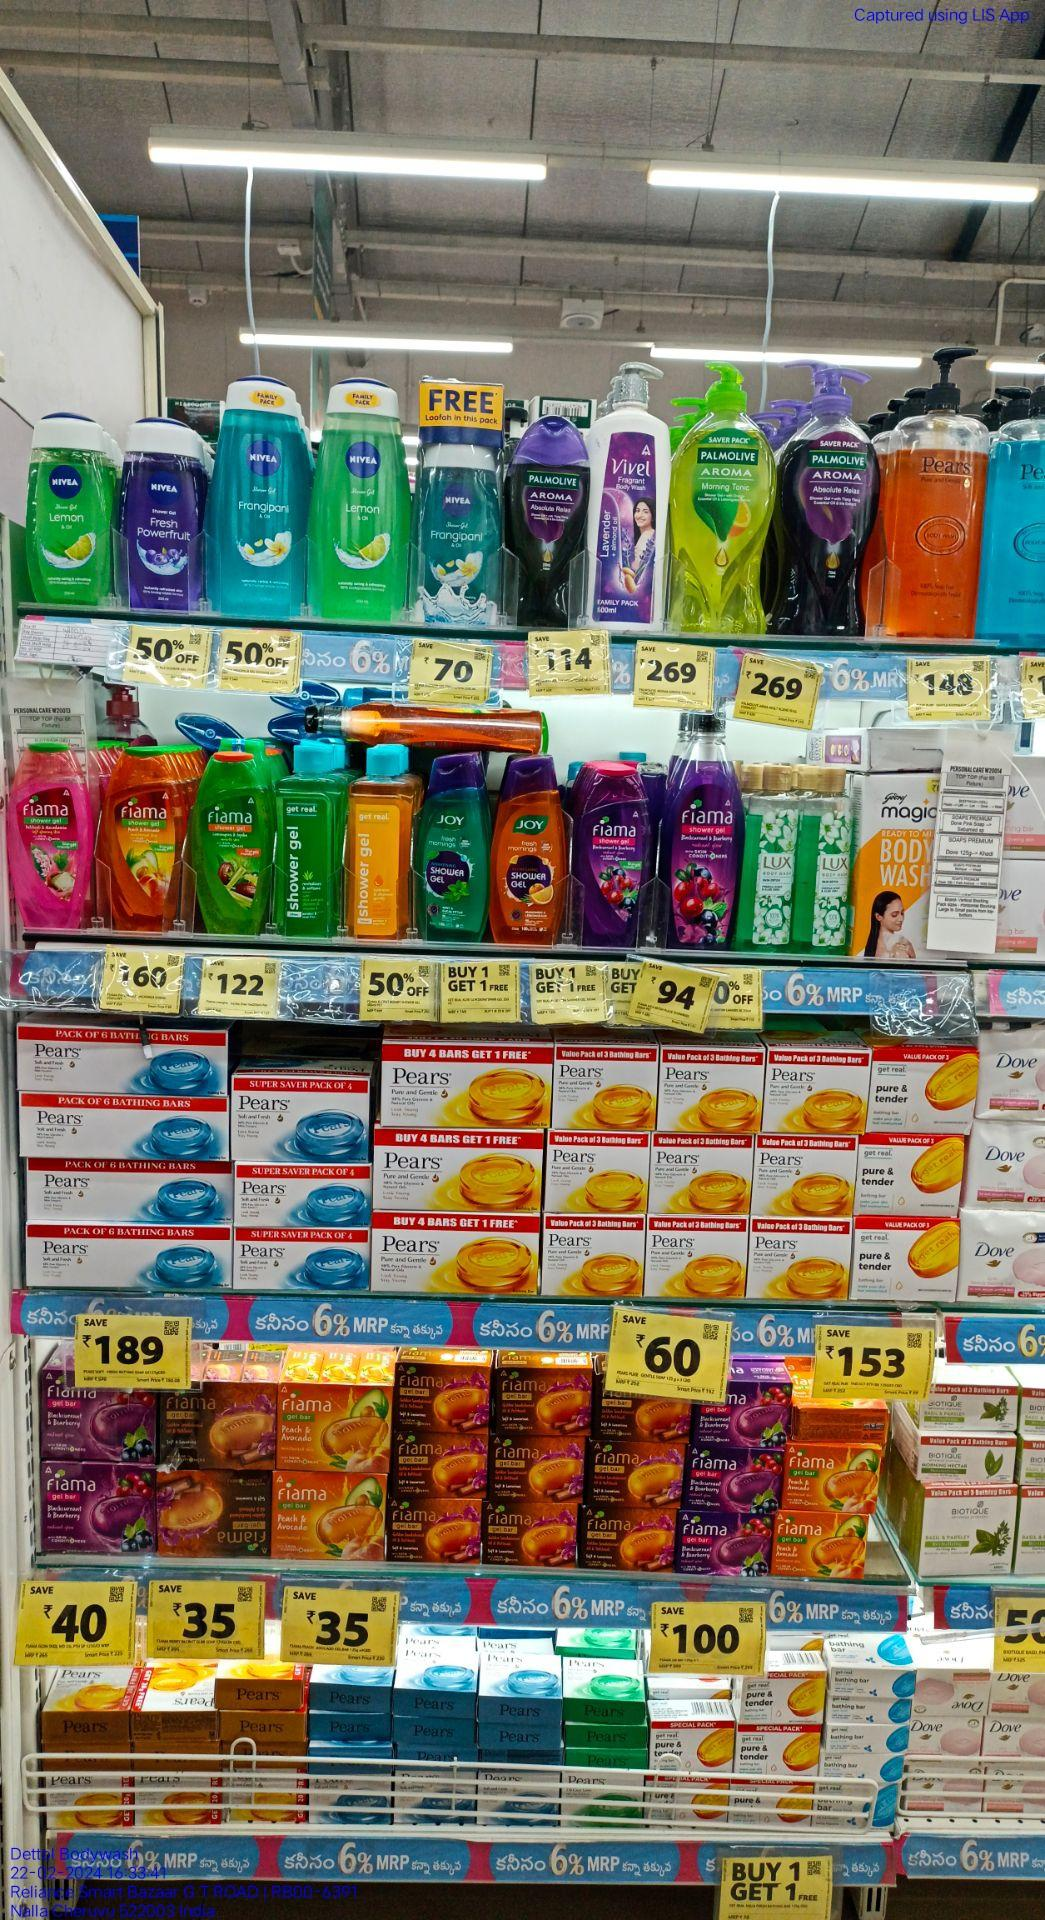Fiama_Shower_Gel_Lemongrass_and_Jojoba_250ML: (198, 745, 265, 941)
Fiama_Shower_Gel_Patchouli_and_Macadamia_250ML: (10, 740, 89, 930)
Fiama_Shower_Gel_Peach_and_Avocado_250ML: (104, 748, 181, 933)
Joy_Shower_Gel_Mandarin_and_Lemongrass_250ML: (489, 758, 568, 942)
Joy_Shower_Gel_Mint_and_Eucalyptus_250ML: (418, 758, 489, 941)
Lux_Body_Wash_Skin_Detox_Freesia_Scent_and_Alove_Vera_245ML: (800, 768, 851, 956), (745, 764, 791, 950)
Nivea_Shower_Gel_Frangipani_and_Oil_250ML: (210, 376, 301, 627)
Nivea_Shower_Gel_Fresh_Powerfruit_250ML: (125, 404, 201, 616)
Nivea_Shower_Gel_Lemon_and_Oil_250ML: (310, 377, 402, 625), (22, 408, 113, 611)
Palmolive_Aroma_Relax_250ML: (508, 413, 595, 625)
